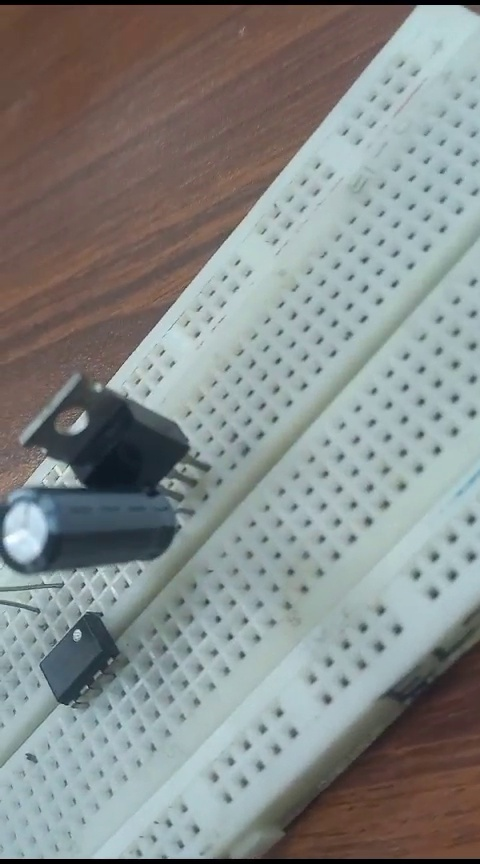IC: (26, 615, 128, 696)
capacitor: (6, 476, 190, 561)
voltage regulator: (14, 352, 208, 491)
